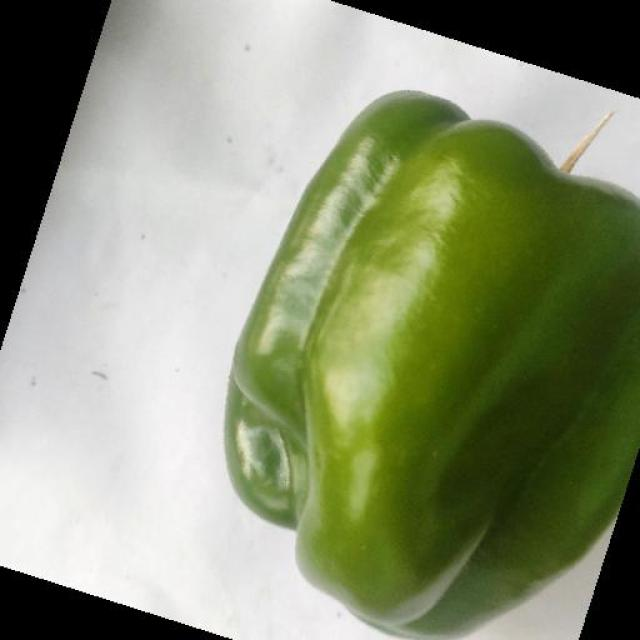Fresh_Capsicum: (256, 113, 640, 571)
